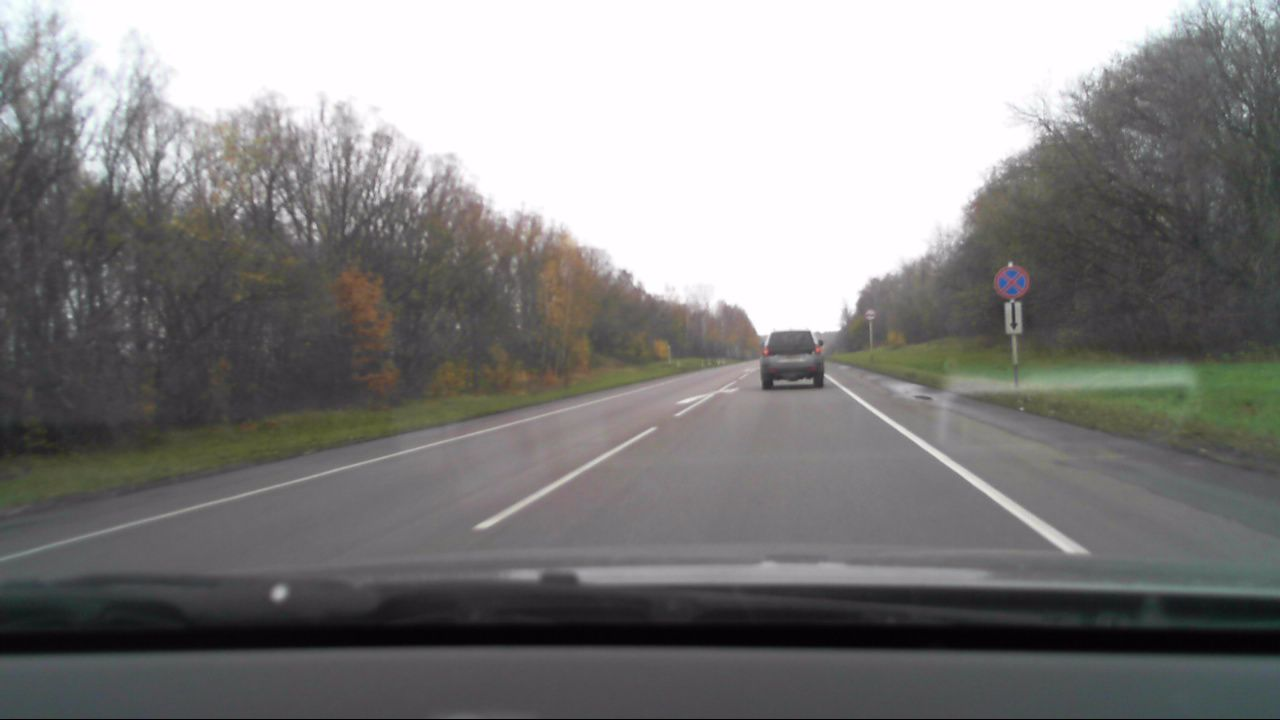No Parking: (993, 262, 1030, 298)
